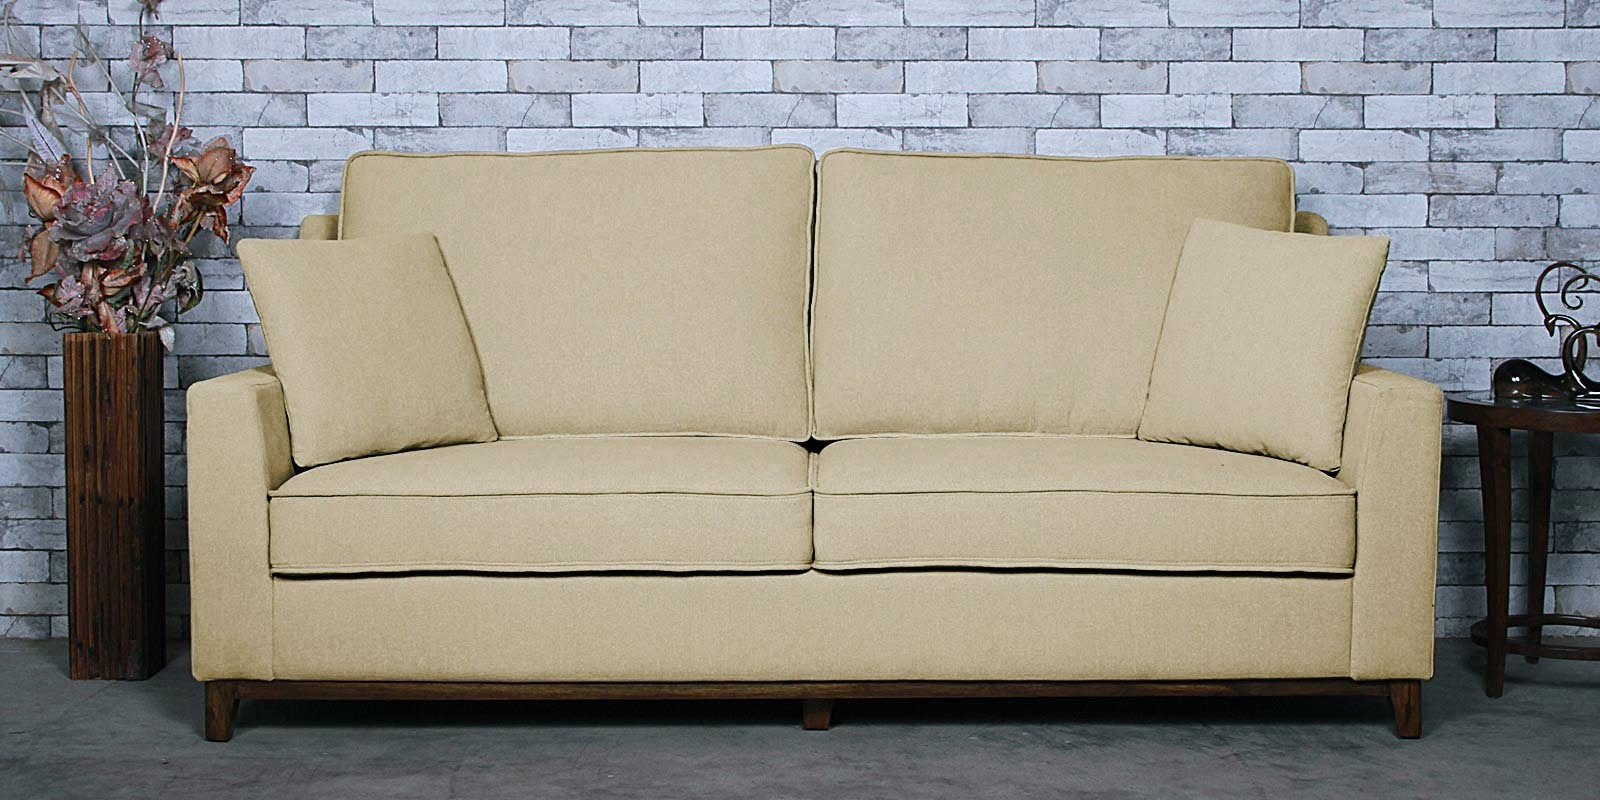Diego Three Seater Sofa in Beige Colour by CasaCraft: (185, 124, 1453, 741)
